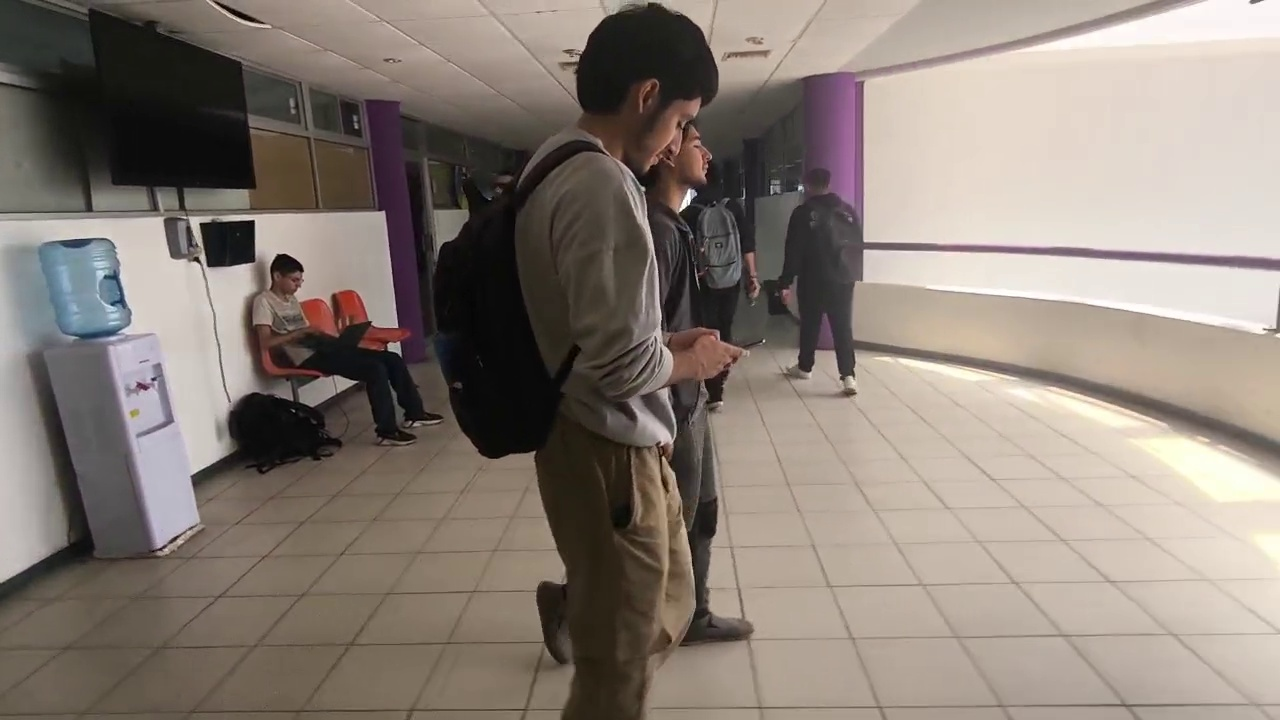mixto2: (724, 326, 770, 354)
